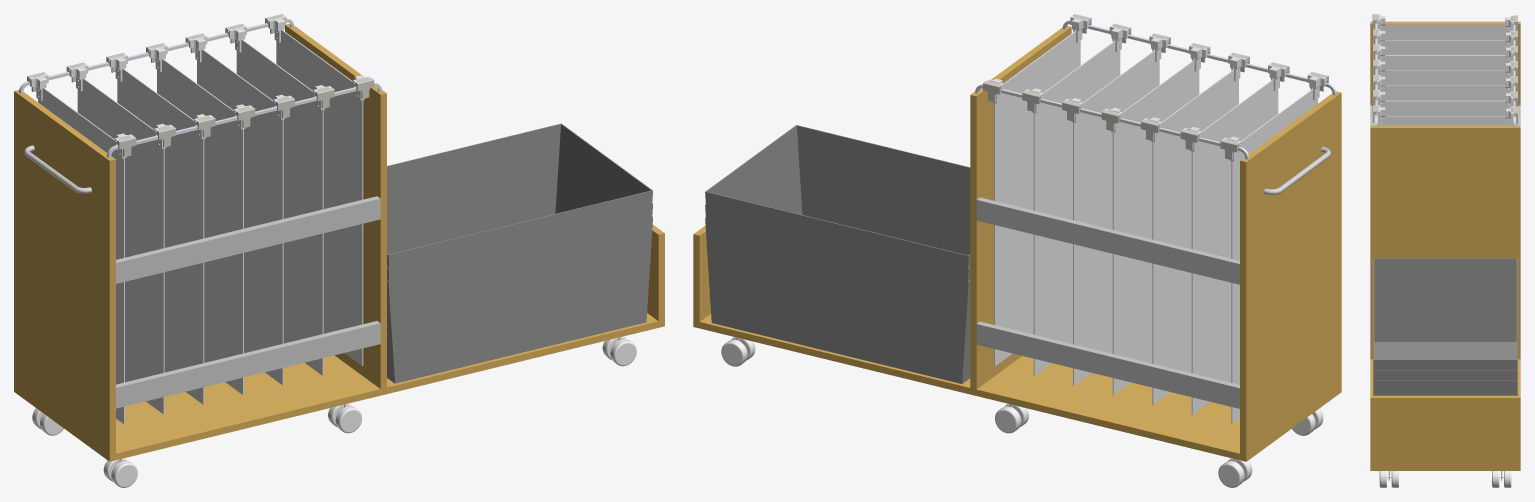
File: chariot.glb
3 views of the same model, side by side, from view 1: azimuth 30°, elevation 25°; view 2: azimuth 150°, elevation 25°; view 3: azimuth 270°, elevation 25° (orthographic). The views are drawn at different scales.
Visible parts, largest first — view 1: Part 5 (×7), Part 1, Part 8 (×3), Part 9 (×2), Part 2 (×2), Part 7 (×2), Part 4 (×3), Part 3 (×2); view 2: Part 5 (×7), Part 1, Part 8 (×3), Part 9 (×3), Part 2 (×2), Part 7 (×3), Part 4 (×3), Part 3 (×2); view 3: Part 1, Part 7 (×3), Part 5 (×7), Part 4 (×2), Part 8, Part 9.
Boxes of the visible parts, x1,y1,x2,y2 form: Part 5 (×7): (38, 29, 363, 424); Part 1: (14, 24, 664, 461); Part 8 (×3): (387, 123, 651, 369); Part 9 (×2): (389, 190, 651, 382); Part 2 (×2): (116, 196, 380, 408); Part 7 (×2): (387, 123, 652, 383); Part 4 (×3): (103, 336, 636, 487); Part 3 (×2): (19, 18, 381, 157); Part 5 (×7): (994, 30, 1317, 424); Part 1: (693, 25, 1341, 461); Part 8 (×3): (706, 139, 970, 382); Part 9 (×3): (706, 125, 970, 369); Part 2 (×2): (976, 197, 1239, 408); Part 7 (×3): (705, 125, 970, 383); Part 4 (×3): (721, 337, 1252, 487); Part 3 (×2): (975, 20, 1336, 159); Part 1: (1370, 21, 1520, 470); Part 7 (×3): (1373, 258, 1517, 395); Part 5 (×7): (1381, 24, 1509, 125); Part 4 (×2): (1379, 471, 1511, 487); Part 8: (1516, 258, 1517, 359); Part 9: (1373, 258, 1374, 359).
Bounding box in the file's own units: 1.72 × 1.02 × 0.5.
